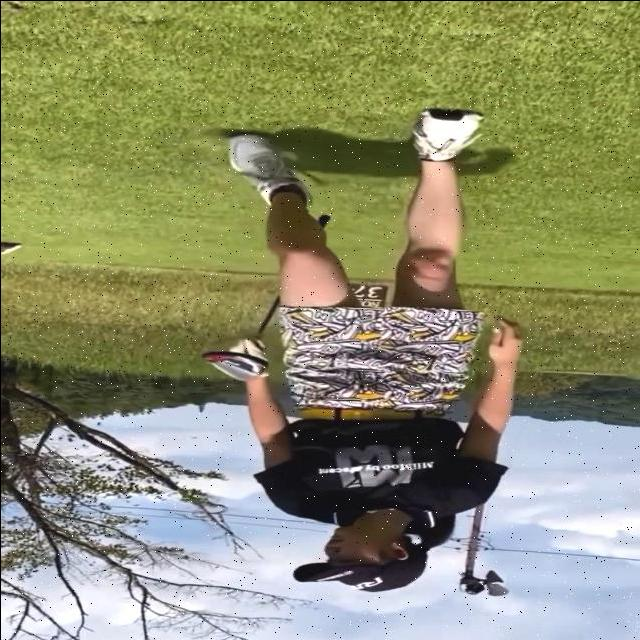golf club-handle: (202, 214, 328, 380)
golf club-head: (203, 351, 267, 380)
